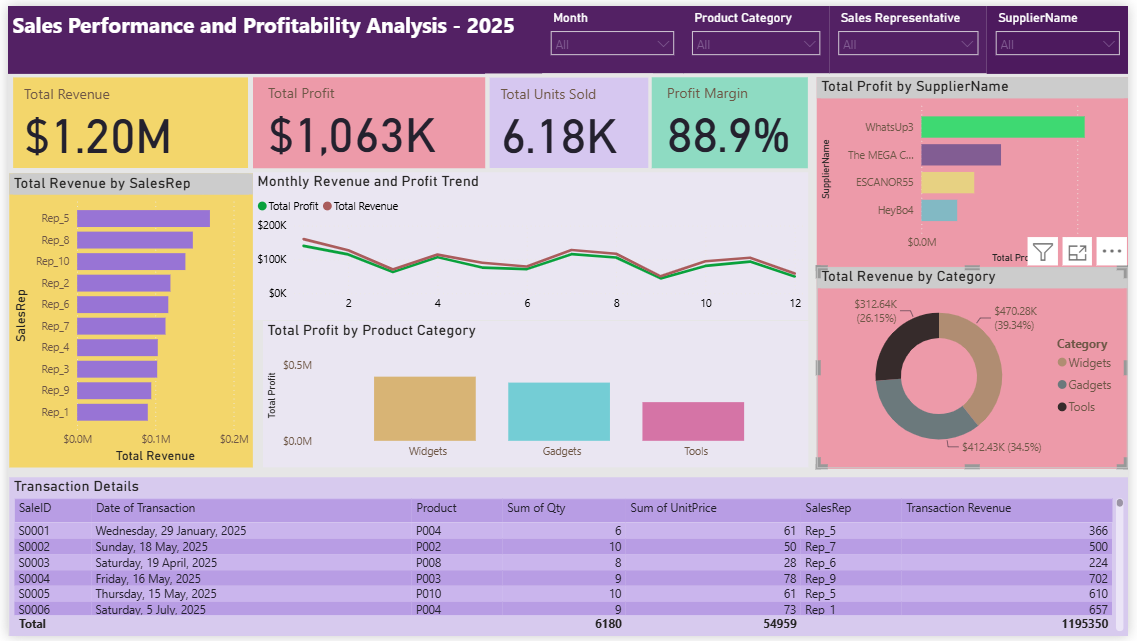

The dashboard page shown, as its layout file describes it:
{"tool":"powerbi","page":{"name":"Sales & Profit Analysis","canvas":[1280,720],"ordinal":0},"visuals":[{"type":"textbox","box":[0,0,610.4,77.5],"z":0},{"type":"slicer","fields":{"Values":["DateMaster.Month"]},"box":[610,0,161.4,77.1],"z":1000},{"type":"slicer","fields":{"Values":["CustomerBuyable.Category"]},"box":[771.4,0,167.1,77.1],"z":2000},{"type":"cardVisual","fields":{"Data":["CustomerBuyable.Total Profit"]},"box":[279.6,81.7,265.7,103.8],"z":3000},{"type":"cardVisual","fields":{"Data":["CustomerBuyable.Total Revenue"]},"box":[1.4,77.5,278.2,113.5],"z":4000},{"type":"cardVisual","fields":{"Data":["CustomerBuyable.Total Units Sold"]},"box":[545.3,77.5,191,113.5],"z":5000},{"type":"cardVisual","fields":{"Data":["CustomerBuyable.Profit Margin"]},"box":[736.3,81.7,178.5,103.8],"z":6000},{"type":"slicer","fields":{"Values":["Sales Over Period!.SalesRep"]},"box":[938.6,0,180,77.1],"z":7000},{"type":"slicer","fields":{"Values":["Suppliers.SupplierName"]},"box":[1118.3,0,161.9,77.5],"z":8000},{"type":"clusteredBarChart","fields":{"Category":["Sales Over Period!.SalesRep"],"Y":["CustomerBuyable.Total Revenue"]},"box":[1.4,191.4,278.6,335.7],"z":9000},{"type":"tableEx","title":"Transaction Details","fields":{"Values":["Sales Over Period!.SaleID","Sales Over Period!.Date of Transaction","Sales Over Period!.Product","Sum(Sales Over Period!.Qty)","Sum(Sales Over Period!.UnitPrice)","Sales Over Period!.SalesRep","CustomerBuyable.Transaction Revenue"]},"box":[1.4,538.4,1278.9,181.3],"z":10000},{"type":"clusteredColumnChart","title":"Total Profit by Product Category","fields":{"Category":["CustomerBuyable.Category"],"Y":["CustomerBuyable.Total Profit"]},"box":[291.4,360,622.9,167.1],"z":11000},{"type":"lineChart","title":"Monthly Revenue and Profit Trend","fields":{"Category":["DateMaster.Month"],"Y":["CustomerBuyable.Total Profit","CustomerBuyable.Total Revenue"]},"box":[280,190,634.3,168.6],"z":12000},{"type":"clusteredBarChart","fields":{"Category":["Suppliers.SupplierName"],"Y":["CustomerBuyable.Total Profit"]},"box":[924.3,81.4,355.7,217.1],"z":13000},{"type":"donutChart","fields":{"Category":["CustomerBuyable.Category"],"Y":["CustomerBuyable.Total Revenue"]},"box":[924.3,298.6,355.7,230],"z":14000}]}

Visuals, with their boxes in screenshot pixels (x1, y1, x2, y2), scaled from the page's 1280x720 canvas onto the 1137x641 screenshot:
textbox: crop(0, 0, 542, 69)
slicer - DateMaster.Month: crop(542, 0, 685, 69)
slicer - CustomerBuyable.Category: crop(685, 0, 834, 69)
cardVisual - CustomerBuyable.Total Profit: crop(248, 73, 484, 165)
cardVisual - CustomerBuyable.Total Revenue: crop(1, 69, 248, 170)
cardVisual - CustomerBuyable.Total Units Sold: crop(484, 69, 654, 170)
cardVisual - CustomerBuyable.Profit Margin: crop(654, 73, 813, 165)
slicer - Sales Over Period!.SalesRep: crop(834, 0, 994, 69)
slicer - Suppliers.SupplierName: crop(993, 0, 1136, 69)
clusteredBarChart - Sales Over Period!.SalesRep x CustomerBuyable.Total Revenue: crop(1, 170, 249, 469)
"Transaction Details" tableEx: crop(1, 479, 1136, 640)
"Total Profit by Product Category" clusteredColumnChart: crop(259, 320, 812, 469)
"Monthly Revenue and Profit Trend" lineChart: crop(249, 169, 812, 319)
clusteredBarChart - Suppliers.SupplierName x CustomerBuyable.Total Profit: crop(821, 72, 1136, 266)
donutChart - CustomerBuyable.Category x CustomerBuyable.Total Revenue: crop(821, 266, 1136, 471)
